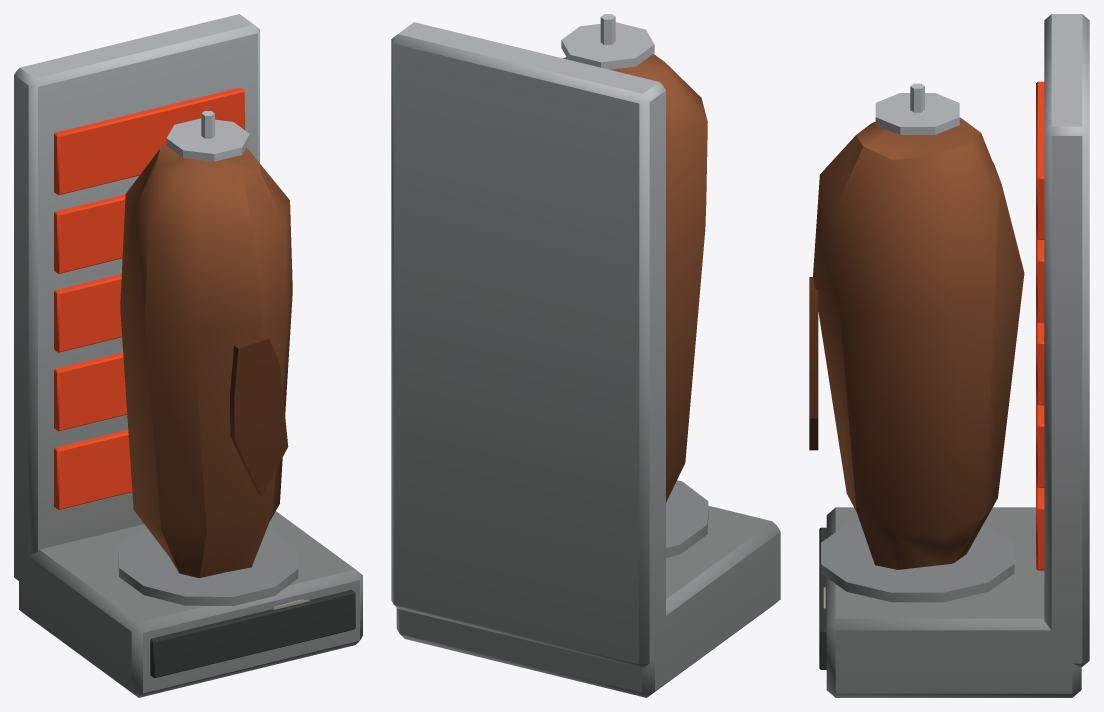
File: 69_broche_kebab.fbx
The picture shows the model from 3 angles, left to right: view 1: azimuth 30°, elevation 25°; view 2: azimuth 150°, elevation 25°; view 3: azimuth 270°, elevation 25°; orthographic projection. The views are drawn at different scales.
Visible parts, largest first — view 1: Socle, Viande, Grill; view 2: Socle, Viande; view 3: Viande, Socle, Grill.
Part boxes in pixels (box(x1,y1,x2,y2)): Socle: box(14, 14, 362, 697); Viande: box(120, 144, 292, 577); Grill: box(54, 87, 244, 509); Socle: box(391, 14, 780, 697); Viande: box(563, 54, 707, 502); Viande: box(809, 117, 1024, 569); Socle: box(819, 14, 1089, 697); Grill: box(1036, 81, 1044, 570).
Size of the model in its own units: 0.448 by 1.01 by 0.448.
Materials: 1 (1 with a texture image).
